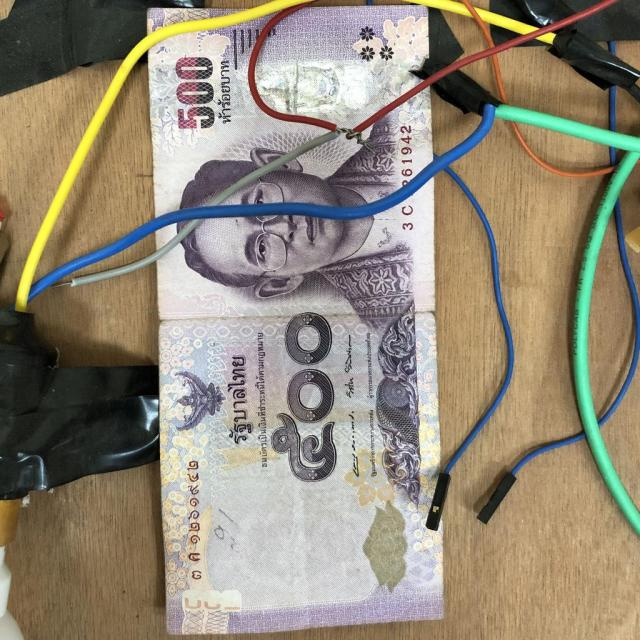THAI500: (156, 183, 445, 637), (147, 6, 436, 216)
